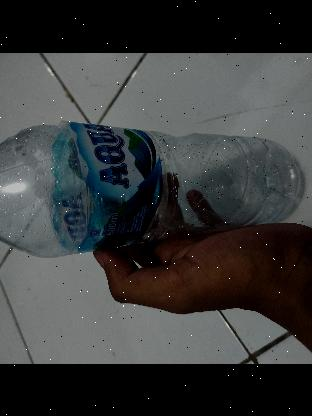Plastic Bottle: (0, 110, 312, 273)
